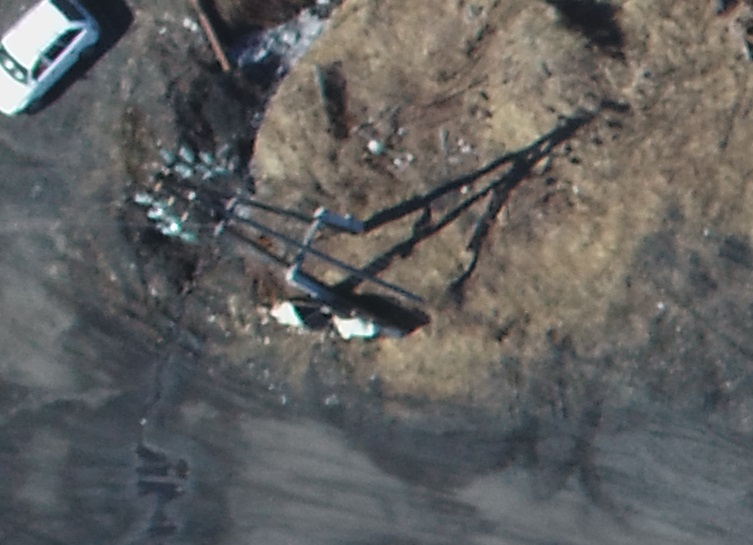opora: (127, 136, 501, 338)
